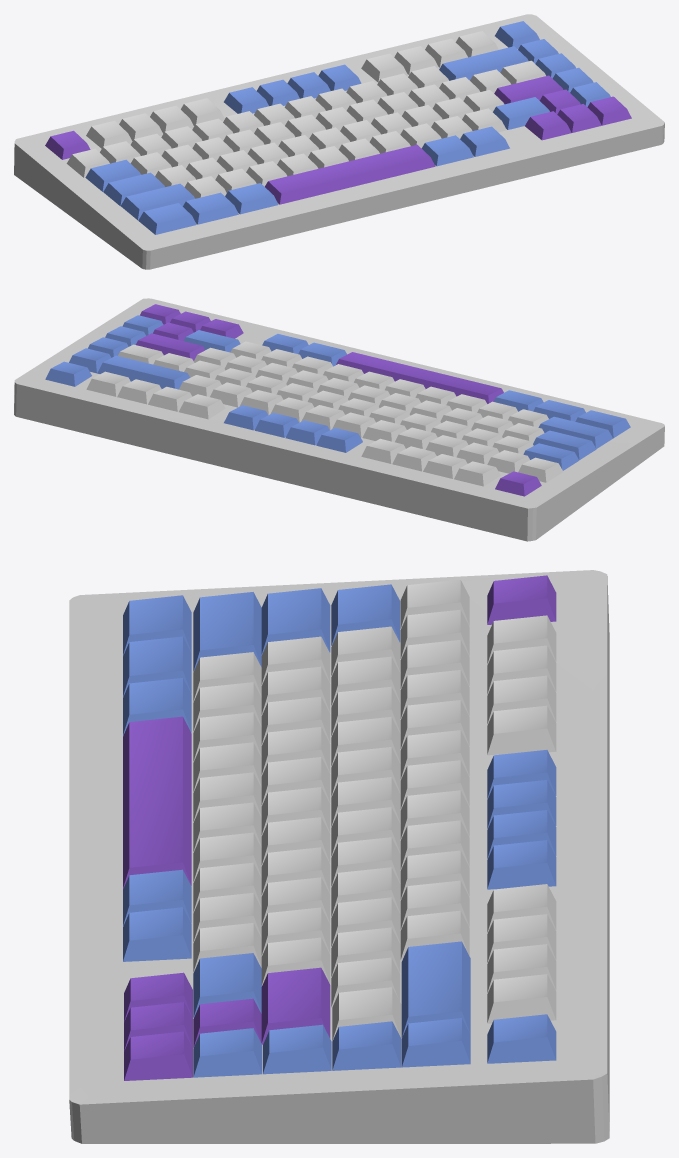
File: キーボード.fbx
The picture shows the model from 3 angles, top to bottom: view 1: azimuth 30°, elevation 25°; view 2: azimuth 150°, elevation 25°; view 3: azimuth 270°, elevation 25°; orthographic projection. The views are drawn at different scales.
Visible parts, largest first — view 1: siro, 平面.006, ao, murasaki; view 2: 平面.006, siro, ao, murasaki; view 3: siro, 平面.006, ao, murasaki.
Part boxes in pixels (x1=…): siro: x1=66, y1=31, x2=545, y2=198; 平面.006: x1=14, y1=14, x2=664, y2=269; ao: x1=85, y1=21, x2=610, y2=234; murasaki: x1=45, y1=75, x2=631, y2=204; 平面.006: x1=14, y1=298, x2=664, y2=541; siro: x1=86, y1=341, x2=563, y2=486; ao: x1=45, y1=315, x2=630, y2=470; murasaki: x1=136, y1=304, x2=541, y2=496; siro: x1=193, y1=579, x2=556, y2=1040; 平面.006: x1=69, y1=570, x2=609, y2=1143; ao: x1=123, y1=584, x2=556, y2=1077; murasaki: x1=123, y1=575, x2=556, y2=1080.
Size of the model in its own units: 520 by 39.48 by 233.
